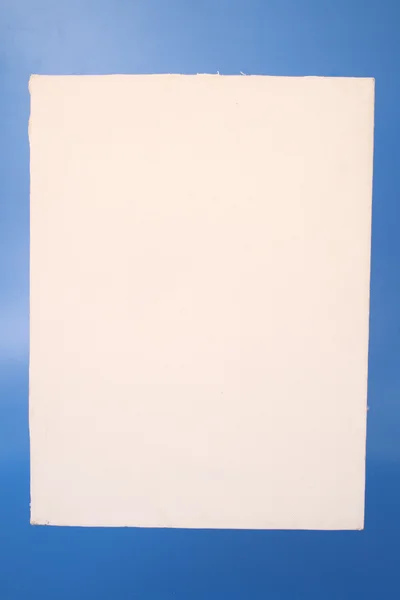page: (33, 77, 362, 521)
